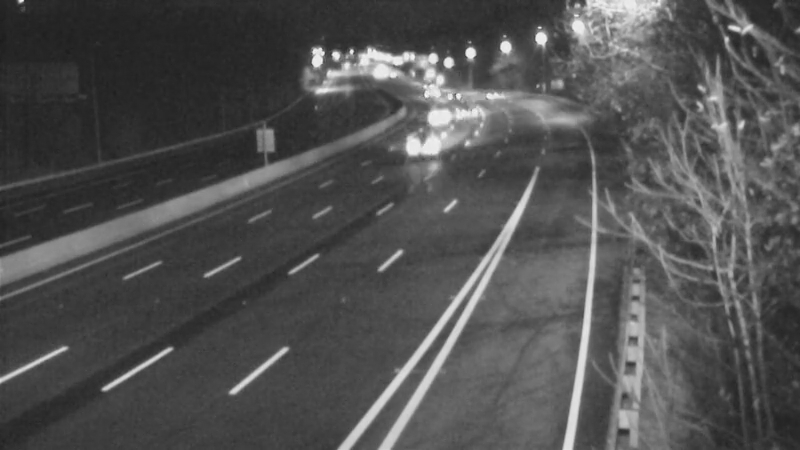vehicle: (464, 68, 514, 118), (396, 64, 446, 114), (424, 69, 474, 119), (440, 88, 490, 138), (410, 89, 460, 139), (397, 118, 447, 168)
